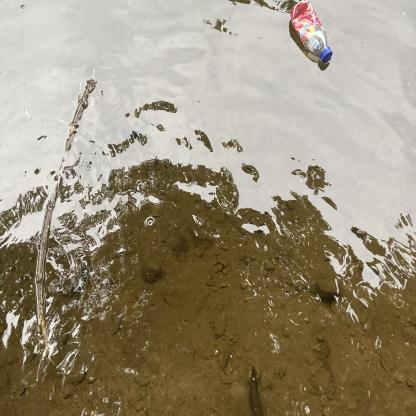trash: (286, 0, 342, 72)
